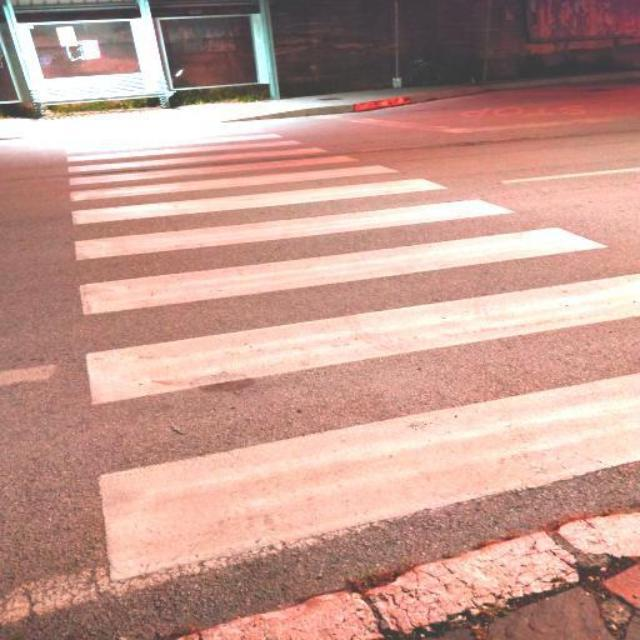sidewalk: (67, 131, 639, 590)
